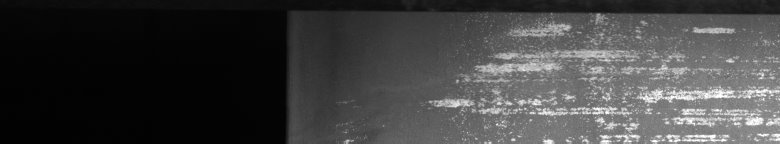kb: (422, 8, 776, 136)
